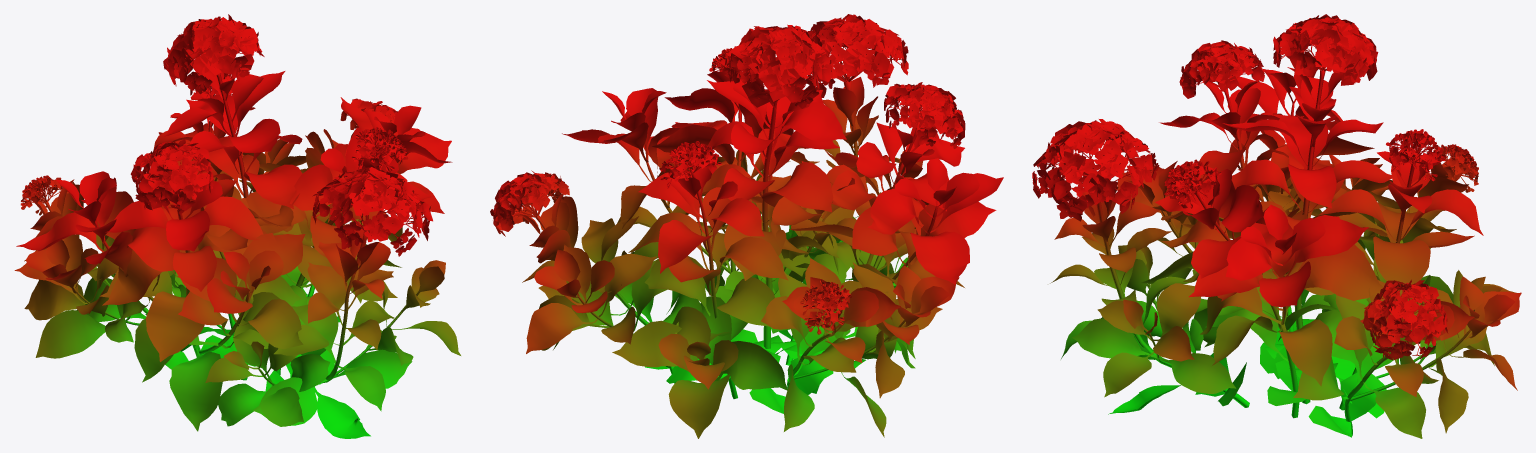
Rendered from Var4_LOD0.fbx.
3 views of the same model, side by side, from view 1: azimuth 30°, elevation 25°; view 2: azimuth 150°, elevation 25°; view 3: azimuth 270°, elevation 25° (orthographic). The views are drawn at different scales.
Parts seen in each view (by area): view 1: _8o63_Var4_LOD0; view 2: _8o63_Var4_LOD0; view 3: _8o63_Var4_LOD0.
Part boxes in pixels (x1,y1,x2,y2): _8o63_Var4_LOD0: (14, 14, 460, 438); _8o63_Var4_LOD0: (490, 14, 1003, 438); _8o63_Var4_LOD0: (1032, 14, 1521, 438).
Size of the model in its own units: 129 by 106 by 125.
